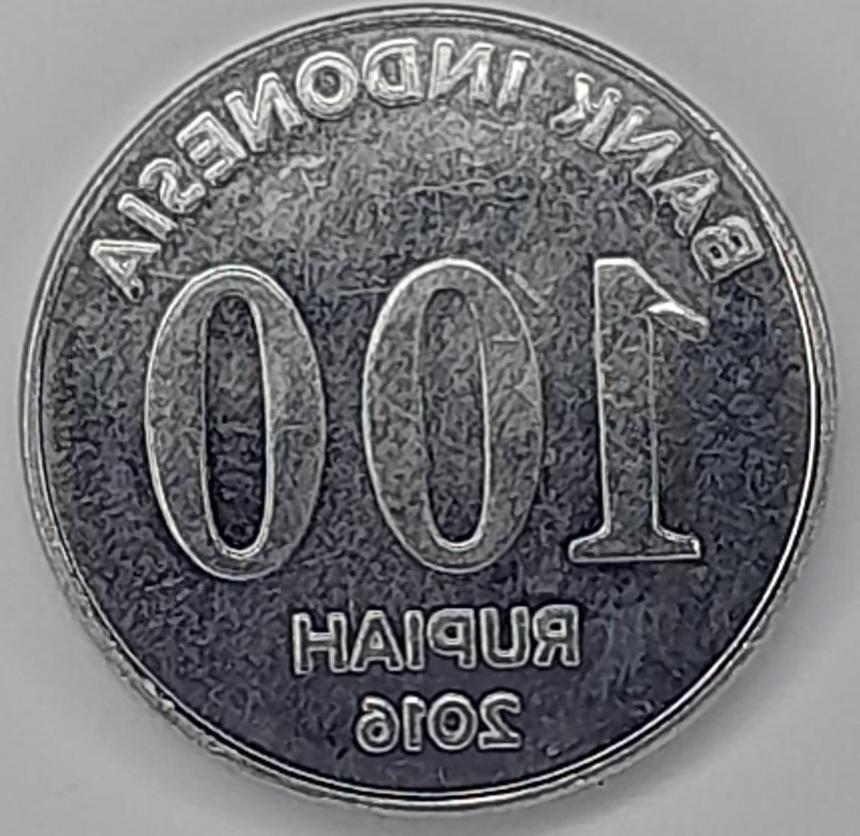coin_100_e2016: (15, 0, 843, 818)
